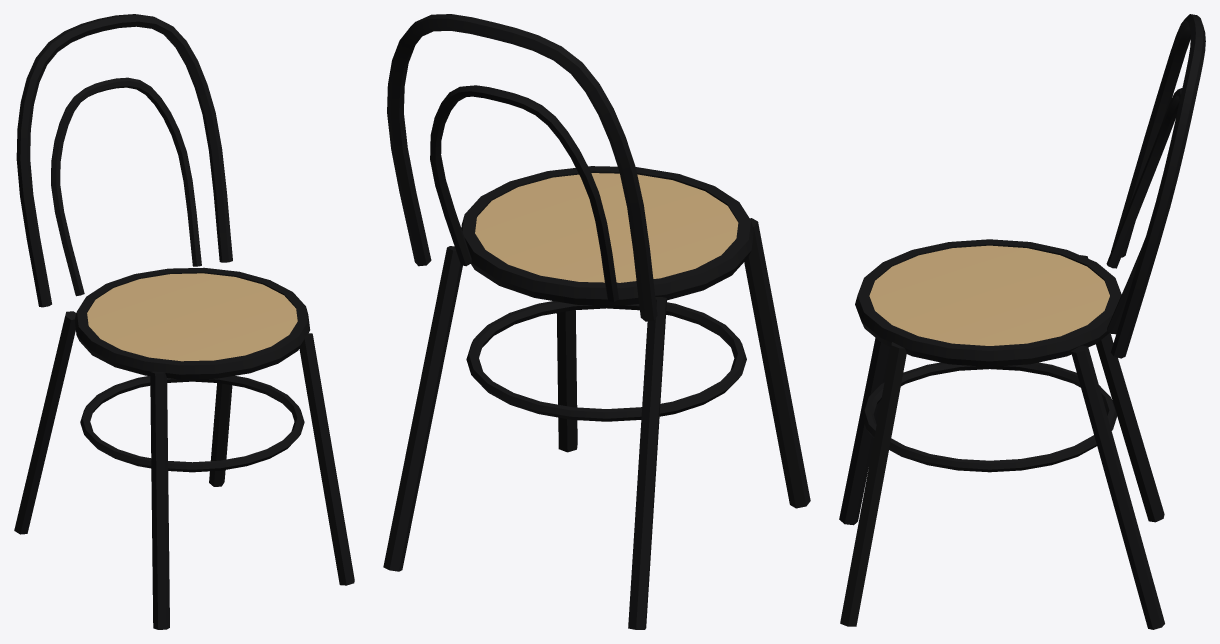
File: bentwood_black.glb
The picture shows the model from 3 angles, left to right: view 1: azimuth 30°, elevation 25°; view 2: azimuth 150°, elevation 25°; view 3: azimuth 270°, elevation 25°; orthographic projection. The views are drawn at different scales.
Parts seen in each view (by area): view 1: bentwood_black; view 2: bentwood_black; view 3: bentwood_black.
Part boxes in pixels (x1,y1,x2,y2): bentwood_black: (14,14,354,629); bentwood_black: (383,14,810,629); bentwood_black: (839,14,1205,629).
Size of the model in its own units: 0.4269 by 0.93 by 0.5715.
